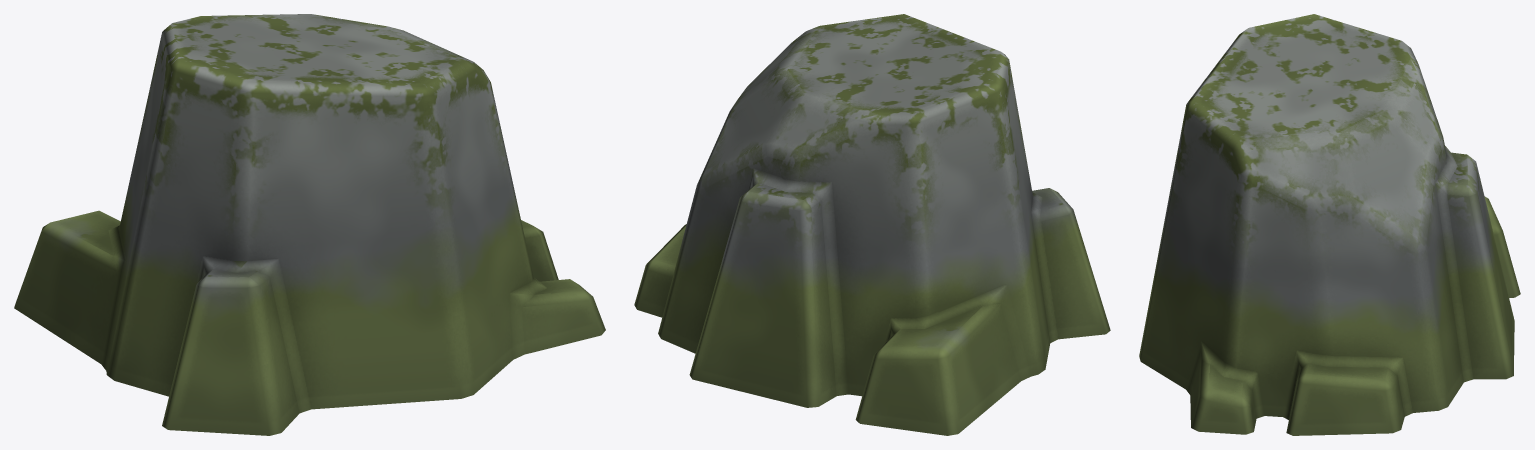
The model's file is rock.glb.
3 views of the same model, side by side, from view 1: azimuth 30°, elevation 25°; view 2: azimuth 150°, elevation 25°; view 3: azimuth 270°, elevation 25° (orthographic). The views are drawn at different scales.
Visible parts, largest first — view 1: rock; view 2: rock; view 3: rock.
Boxes of the visible parts, left/top/right/bottom form: rock: left=14, top=14, right=605, bottom=435; rock: left=634, top=14, right=1110, bottom=435; rock: left=1139, top=14, right=1520, bottom=435.
Bounding box in the file's own units: 3 × 2 × 2.6.
1 material, 1 textured.
